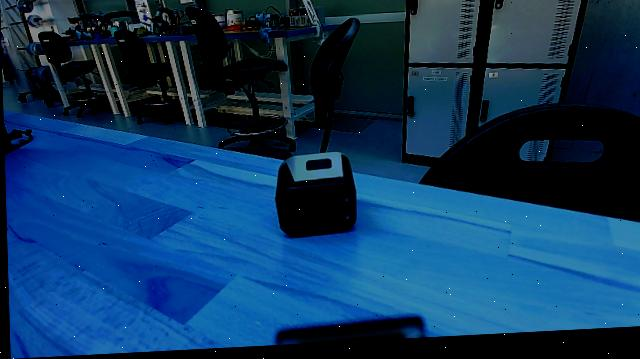adapter: (270, 154, 360, 247)
